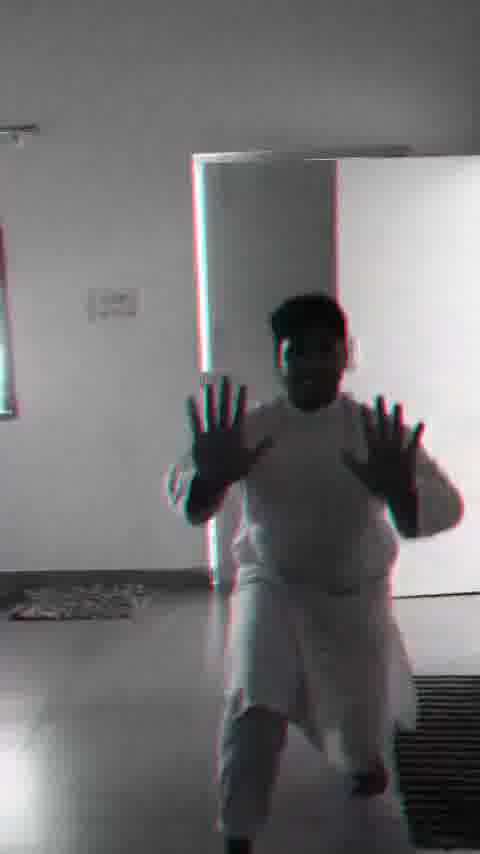duck: (184, 284, 472, 854)
